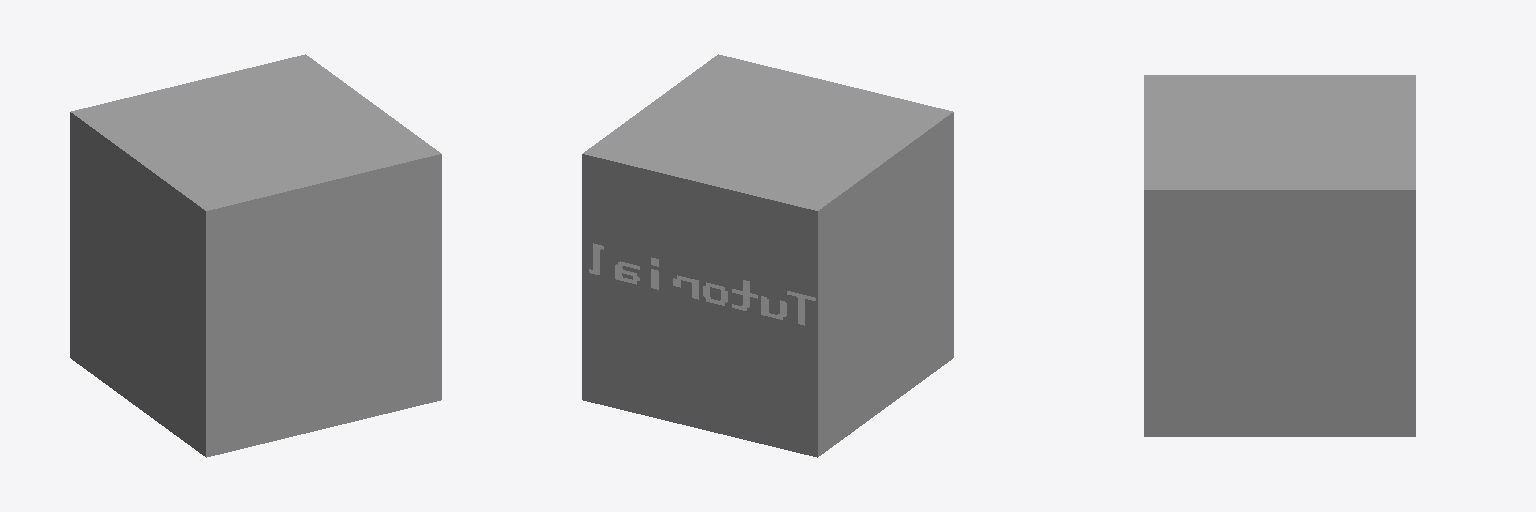
3 views of the same model, side by side, from view 1: azimuth 30°, elevation 25°; view 2: azimuth 150°, elevation 25°; view 3: azimuth 270°, elevation 25° (orthographic).
Parts seen in each view (by area): view 1: Cube; view 2: Cube; view 3: Cube.
Part boxes in pixels (x1,y1,x2,y2): Cube: (70, 54, 441, 457); Cube: (582, 54, 953, 457); Cube: (1144, 75, 1415, 436).
Size of the model in its own units: 1 by 1 by 1.
1 materials, 1 textured.